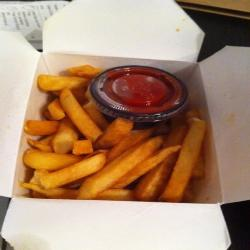fries: (37, 68, 202, 201)
ketchup: (98, 66, 179, 118)
